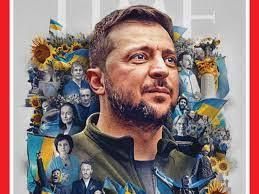Persons: (79, 11, 197, 127)
